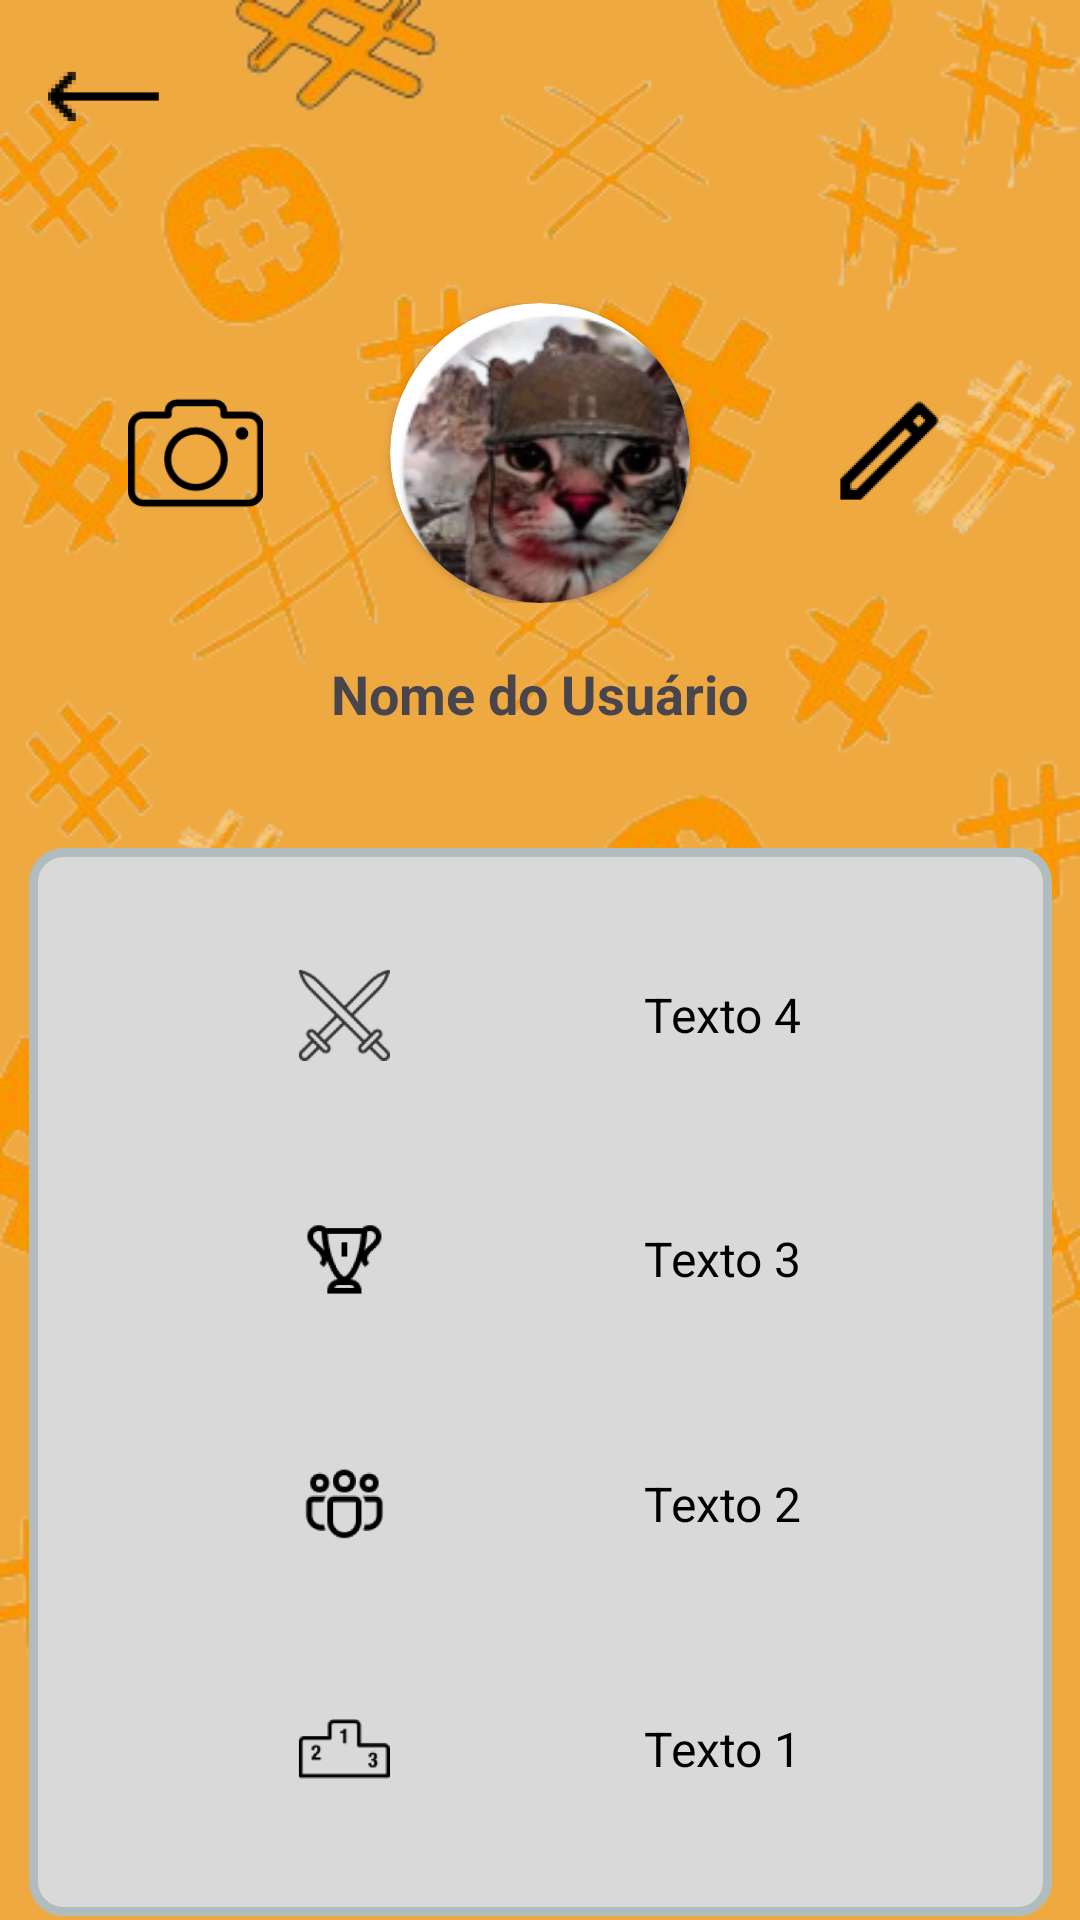

Icons on this 1080 × 1920 Android screen, each with the point to tap as point (x, y):
camera: point (195, 456)
edit: point (896, 457)
flechaicon: point (103, 119)
people: point (344, 1504)
ranking: point (344, 1749)
sword: point (344, 1015)
trofeu: point (344, 1259)
